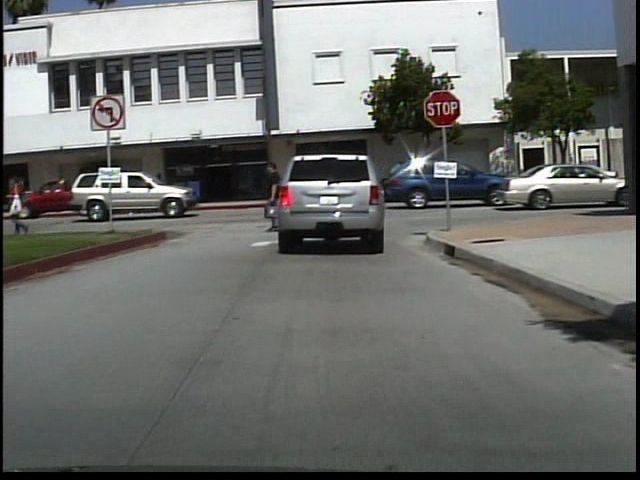person: (261, 158, 292, 239), (6, 173, 41, 241), (124, 171, 148, 210), (161, 172, 162, 206)
